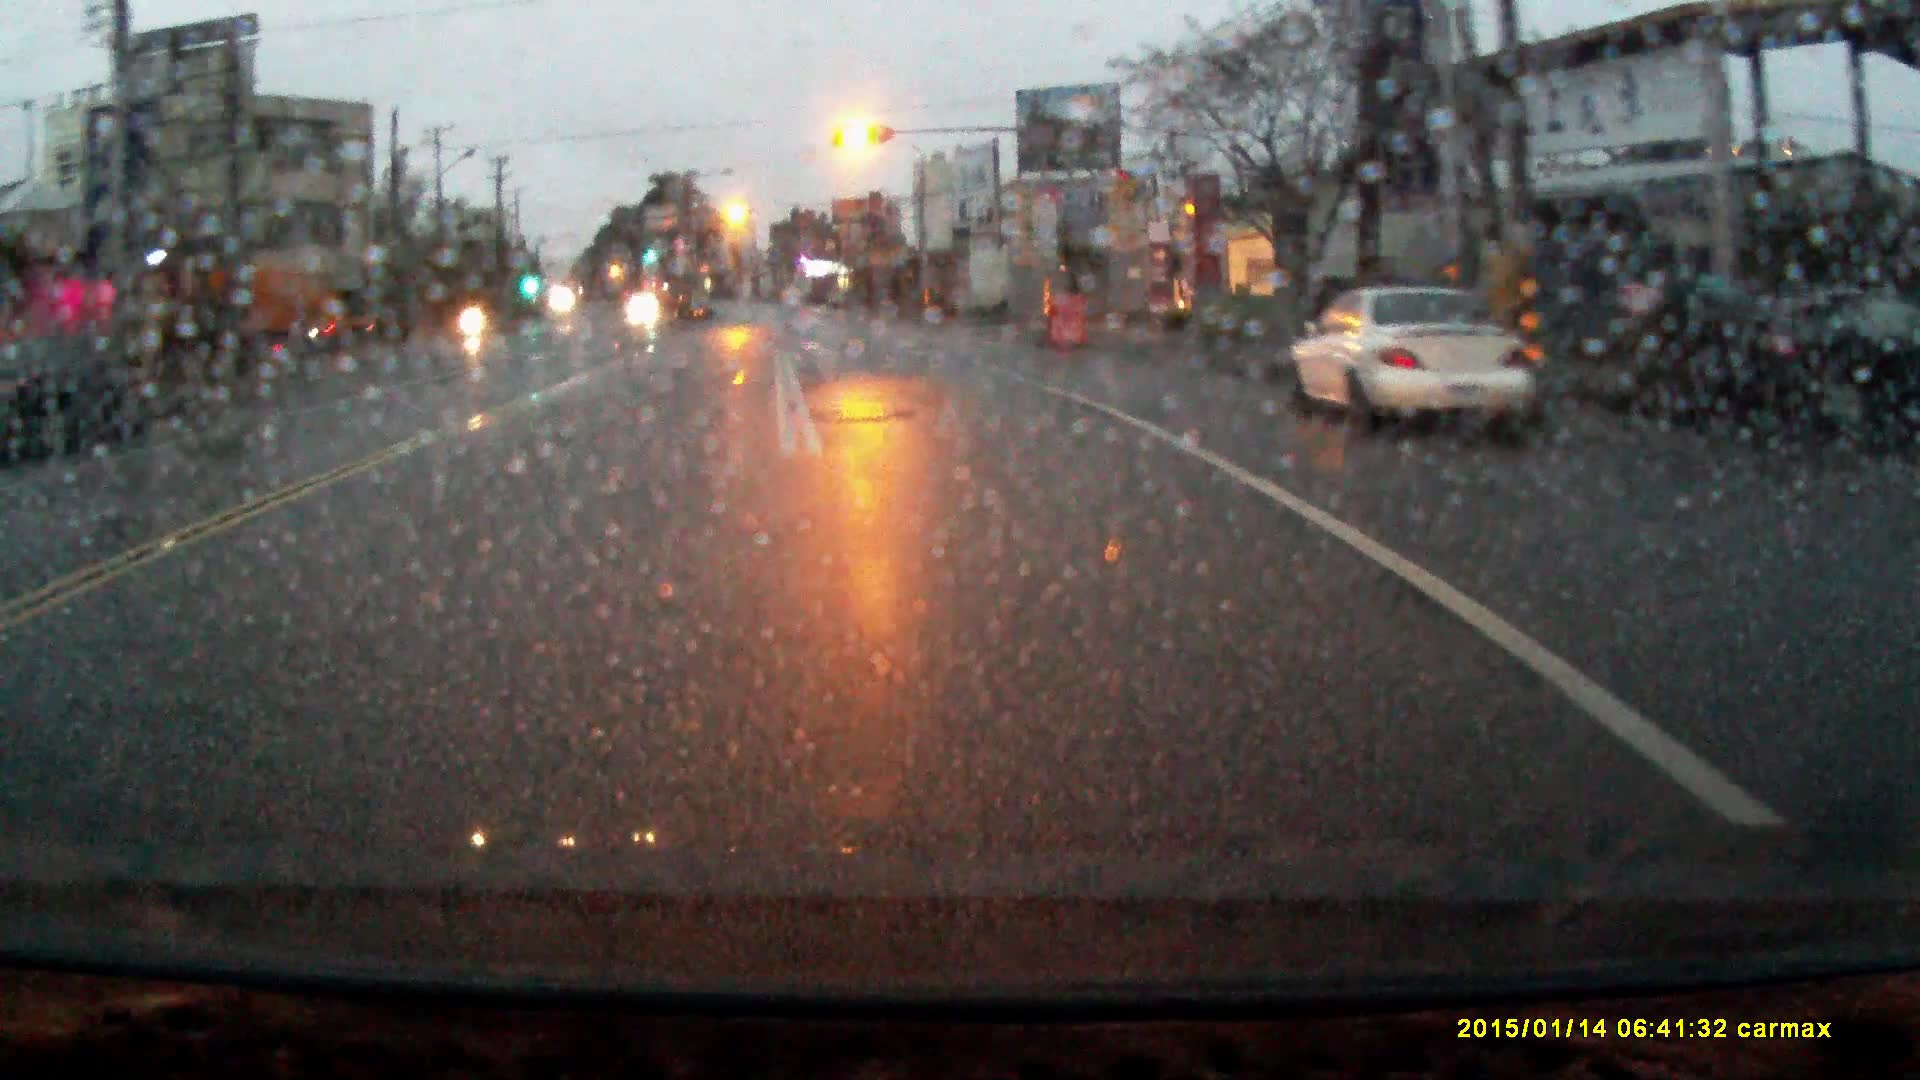rider: (458, 288, 489, 341)
vehicle: (1288, 293, 1553, 442), (161, 254, 387, 355), (9, 335, 162, 451), (626, 298, 660, 330)
